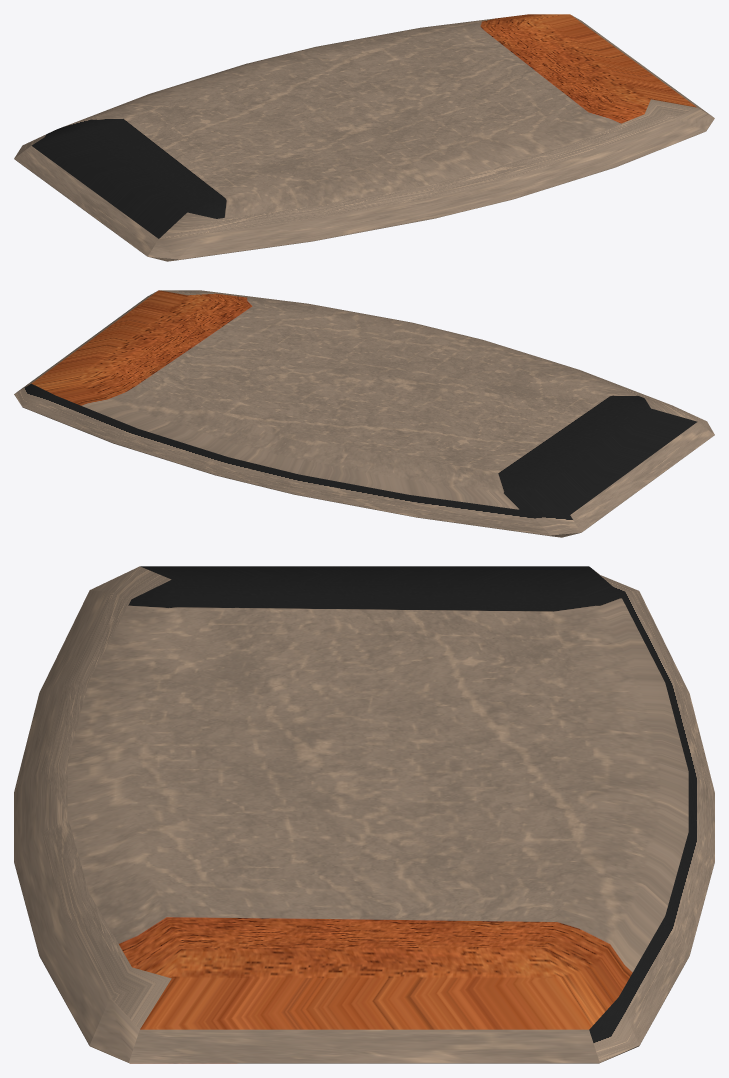
Rendered from Rug.fbx.
3 renders of one model, top to bottom at view 1: azimuth 30°, elevation 25°; view 2: azimuth 150°, elevation 25°; view 3: azimuth 270°, elevation 25°, orthographic. The views are drawn at different scales.
Visible parts, largest first — view 1: carpet; view 2: carpet; view 3: carpet.
Boxes of the visible parts, x1,y1,x2,y2 form: carpet: [14, 14, 714, 261]; carpet: [14, 290, 714, 537]; carpet: [14, 566, 714, 1063].
Size of the model in its own units: 282 by 17.21 by 171.
